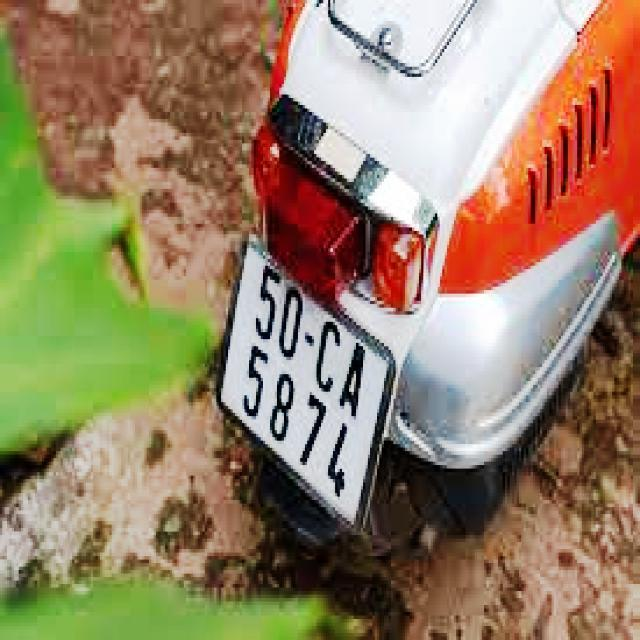license_plate: (217, 242, 395, 526)
